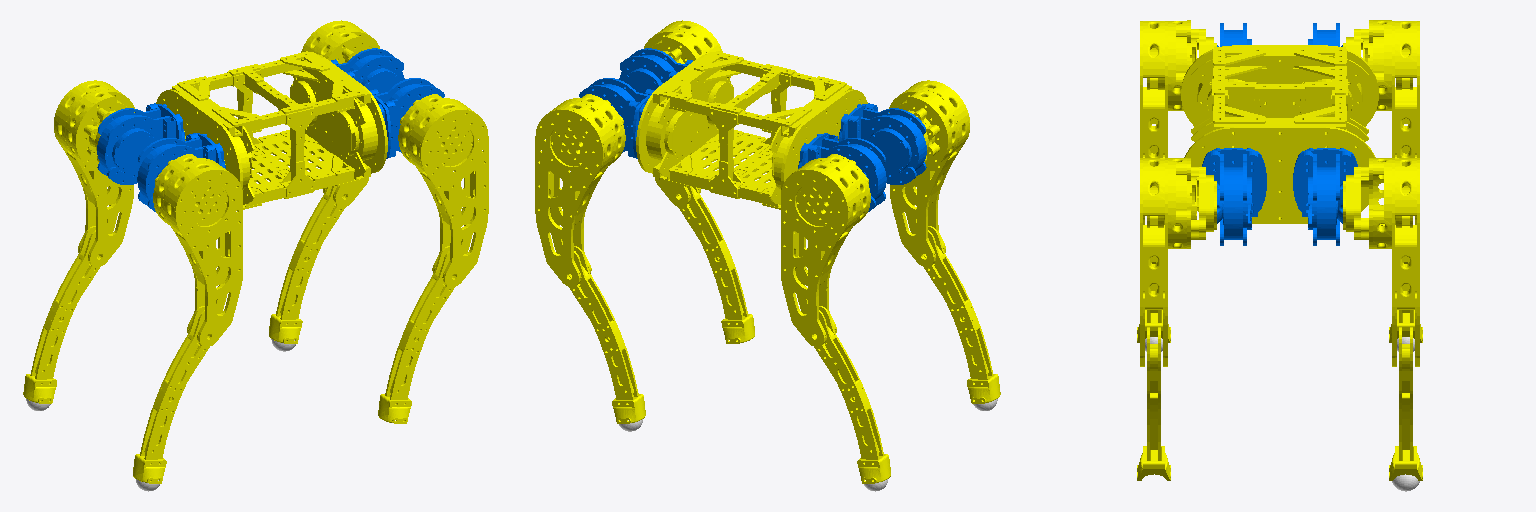
URDF robot description (g308_km):
<?xml version="1.0" encoding="utf-8"?>
<!-- This URDF was automatically created by SolidWorks to URDF Exporter! Originally created by [author] ([email redacted]) 
     Commit Version: 1.6.0-4-g7f85cfe  Build Version: 1.6.7995.38578
     For more information, please see http://wiki.ros.org/sw_urdf_exporter -->
<robot
  name="g308_km">
  <link
    name="base">
    <inertial>
      <origin
        xyz="-0.021 0.00 -0.006"
        rpy="0 0 0" />
      <mass
        value="4.104" />
      <inertia
        ixx="0.022"
        ixy="0.00"
        ixz="0.00"
        iyy="0.052"
        iyz="0.00"
        izz="0.063" />
    </inertial>
    <visual>
      <origin
        xyz="0 0 0"
        rpy="0 0 0" />
      <geometry>
        <mesh
          filename="../meshes/base_link.STL" />
      </geometry>
      <material
        name="">
        <color
          rgba="1 1 0 1" />
      </material>
    </visual>
    <collision>
      <origin
        xyz="0 0 0"
        rpy="0 0 0" />
      <geometry>
        <mesh
          filename="../meshes/base_link.STL" />
      </geometry>
    </collision>
  </link>
  <link
    name="FL_hip">
    <inertial>
      <origin
        xyz="0.046 0.00 -0.001"
        rpy="0 0 0" />
      <mass
        value="1.034" />
      <inertia
        ixx="0.001"
        ixy="0.0"
        ixz="0.0"
        iyy="0.001"
        iyz="0.00"
        izz="0.002" />
    </inertial>
    <visual>
      <origin
        xyz="0 0 0"
        rpy="0 0 0" />
      <geometry>
        <mesh
          filename="../meshes/FL_hip.STL" />
      </geometry>
      <material
        name="">
        <color
          rgba="0 0.501960784313725 1 1" />
      </material>
    </visual>
    <collision>
      <origin
        xyz="0 0 0"
        rpy="0 0 0" />
      <geometry>
        <mesh
          filename="../meshes/FL_hip.STL" />
      </geometry>
    </collision>
  </link>
  <joint
    name="FL_hip_joint"
    type="revolute">
    <origin
      xyz="-0.1699 -0.0615 0.0077356"
      rpy="1.5708 0 3.1416" />
    <parent
      link="base" />
    <child
      link="FL_hip" />
    <axis
      xyz="1 0 0" />
    <limit
      lower="0"
      upper="0"
      effort="20"
      velocity="10" />
  </joint>
  <link
    name="FL_thigh">
    <inertial>
      <origin
        xyz="-0.002683 -0.027136 -0.042559"
        rpy="0 0 0" />
      <mass
        value="1.623153" />
      <inertia
        ixx="0.007266"
        ixy="-0.000730"
        ixz="-0.00177"
        iyy="0.002161"
        iyz="-0.000979"
        izz="0.007364" />
    </inertial>
    <visual>
      <origin
        xyz="0 0 0"
        rpy="0 0 0" />
      <geometry>
        <mesh
          filename="../meshes/FL_thigh.STL" />
      </geometry>
      <material
        name="">
        <color
          rgba="1 1 0 1" />
      </material>
    </visual>
    <collision>
      <origin
        xyz="0 0 0"
        rpy="0 0 0" />
      <geometry>
        <mesh
          filename="../meshes/FL_thigh.STL" />
      </geometry>
    </collision>
  </link>
  <joint
    name="FL_thigh_joint"
    type="revolute">
    <origin
      xyz="0.0677 0 -0.039"
      rpy="0 0 0" />
    <parent
      link="FL_hip" />
    <child
      link="FL_thigh" />
    <axis
      xyz="0 0 -1" />
    <limit
      lower="0"
      upper="0"
      effort="20"
      velocity="10" />
  </joint>
  <link
    name="FL_calf">
    <inertial>
      <origin
        xyz="0.0502864229248673 -0.091368336916456 0.0100012603719881"
        rpy="0 0 0" />
      <mass
        value="0.244" />
      <inertia
        ixx="0.001"
        ixy="0.001"
        ixz="0.0"
        iyy="0.0"
        iyz="0.0"
        izz="0.002" />
    </inertial>
    <visual>
      <origin
        xyz="0 0 0"
        rpy="0 0 0" />
      <geometry>
        <mesh
          filename="../meshes/FL_calf.STL" />
      </geometry>
      <material
        name="">
        <color
          rgba="1 1 0 1" />
      </material>
    </visual>
    <collision>
      <origin
        xyz="0 0 0"
        rpy="0 0 0" />
      <geometry>
        <mesh
          filename="../meshes/FL_calf.STL" />
      </geometry>
    </collision>
  </link>
  <joint
    name="FL_calf_joint"
    type="revolute">
    <origin
      xyz="0 -0.22 -0.0765"
      rpy="0 0 0" />
    <parent
      link="FL_thigh" />
    <child
      link="FL_calf" />
    <axis
      xyz="0 0 -1" />
    <limit
      lower="0"
      upper="0"
      effort="20"
      velocity="10" />
  </joint>
  <link
    name="FL_foot">
    <inertial>
      <origin
        xyz="5.57990809113562E-09 0.000156464784550781 6.38025034006562E-05"
        rpy="0 0 0" />
      <mass
        value="0.0311902243903797" />
      <inertia
        ixx="5.06120841117781E-06"
        ixy="1.89067382214396E-14"
        ixz="8.44229934715806E-13"
        iyy="4.98515638872325E-06"
        iyz="-1.02064134491074E-08"
        izz="5.01872622594312E-06" />
    </inertial>
    <visual>
      <origin
        xyz="0 0 0"
        rpy="0 0 0" />
      <geometry>
        <mesh
          filename="../meshes/FL_foot.STL" />
      </geometry>
      <material
        name="">
        <color
          rgba="1 1 1 1" />
      </material>
    </visual>
    <collision>
      <origin
        xyz="0 0 0"
        rpy="0 0 0" />
      <geometry>
        <mesh
          filename="../meshes/FL_foot.STL" />
      </geometry>
    </collision>
  </link>
  <joint
    name="FL_foot_joint"
    type="fixed">
    <origin
      xyz="0.096205 -0.22407 0.01"
      rpy="2.9432 1.5708 0" />
    <parent
      link="FL_calf" />
    <child
      link="FL_foot" />
    <axis
      xyz="0 0 0" />
    <limit
      effort="20"
      velocity="10" />
  </joint>
  <link
    name="RL_hip">
    <inertial>
      <origin
        xyz="-0.045606 0.00005 -0.000897"
        rpy="0 0 0" />
      <mass
        value="1.034431" />
      <inertia
        ixx="0.000668"
        ixy="-0.000004"
        ixz="-0.000019"
        iyy="0.001443"
        iyz="-9.7756225314779E-09"
        izz="0.001692" />
    </inertial>
    <visual>
      <origin
        xyz="0 0 0"
        rpy="0 0 0" />
      <geometry>
        <mesh
          filename="../meshes/RL_hip.STL" />
      </geometry>
      <material
        name="">
        <color
          rgba="0 0.501960784313725 1 1" />
      </material>
    </visual>
    <collision>
      <origin
        xyz="0 0 0"
        rpy="0 0 0" />
      <geometry>
        <mesh
          filename="../meshes/RL_hip.STL" />
      </geometry>
    </collision>
  </link>
  <joint
    name="RL_hip_joint"
    type="revolute">
    <origin
      xyz="0.12709 -0.0615 0.0077356"
      rpy="1.5708 0 3.1416" />
    <parent
      link="base" />
    <child
      link="RL_hip" />
    <axis
      xyz="1 0 0" />
    <limit
      lower="0"
      upper="0"
      effort="20"
      velocity="10" />
  </joint>
  <link
    name="RL_thigh">
    <inertial>
      <origin
        xyz="-0.014325 -0.015494 -0.0263559"
        rpy="0 0 0" />
      <mass
        value="1.623153" />
      <inertia
        ixx="0.007266"
        ixy="-0.000730"
        ixz="-0.000177"
        iyy="0.002161"
        iyz="-0.000979"
        izz="0.007364" />
    </inertial>
    <visual>
      <origin
        xyz="0 0 0"
        rpy="0 0 0" />
      <geometry>
        <mesh
          filename="../meshes/RL_thigh.STL" />
      </geometry>
      <material
        name="">
        <color
          rgba="1 1 0 1" />
      </material>
    </visual>
    <collision>
      <origin
        xyz="0 0 0"
        rpy="0 0 0" />
      <geometry>
        <mesh
          filename="../meshes/RL_thigh.STL" />
      </geometry>
    </collision>
  </link>
  <joint
    name="RL_thigh_joint"
    type="revolute">
    <origin
      xyz="-0.056059 -0.011641 -0.059"
      rpy="0 0 0" />
    <parent
      link="RL_hip" />
    <child
      link="RL_thigh" />
    <axis
      xyz="0 0 -1" />
    <limit
      lower="0"
      upper="0"
      effort="20"
      velocity="10" />
  </joint>
  <link
    name="RL_calf">
    <inertial>
      <origin
        xyz="0.050286422924934 -0.0913683369164015 0.0100012603719424"
        rpy="0 0 0" />
      <mass
        value="0.243573" />
      <inertia
        ixx="0.001367"
        ixy="-0.000642"
        ixz="0.0"
        iyy="0.000356"
        iyz="0.0"
        izz="0.001698" />
    </inertial>
    <visual>
      <origin
        xyz="0 0 0"
        rpy="0 0 0" />
      <geometry>
        <mesh
          filename="../meshes/RL_calf.STL" />
      </geometry>
      <material
        name="">
        <color
          rgba="1 1 0 1" />
      </material>
    </visual>
    <collision>
      <origin
        xyz="0 0 0"
        rpy="0 0 0" />
      <geometry>
        <mesh
          filename="../meshes/RL_calf.STL" />
      </geometry>
    </collision>
  </link>
  <joint
    name="RL_calf_joint"
    type="revolute">
    <origin
      xyz="-0.011641 -0.20836 -0.0565"
      rpy="0 0 0" />
    <parent
      link="RL_thigh" />
    <child
      link="RL_calf" />
    <axis
      xyz="0 0 -1" />
    <limit
      lower="0"
      upper="0"
      effort="20"
      velocity="10" />
  </joint>
  <link
    name="RL_foot">
    <inertial>
      <origin
        xyz="5.57990809113562E-09 0.000156464784550669 6.38025034006562E-05"
        rpy="0 0 0" />
      <mass
        value="0.0311902243903798" />
      <inertia
        ixx="5.06120841117782E-06"
        ixy="1.89067431518709E-14"
        ixz="8.44229935295326E-13"
        iyy="4.98515638872326E-06"
        iyz="-1.0206413449107E-08"
        izz="5.01872622594313E-06" />
    </inertial>
    <visual>
      <origin
        xyz="0 0 0"
        rpy="0 0 0" />
      <geometry>
        <mesh
          filename="../meshes/RL_foot.STL" />
      </geometry>
      <material
        name="">
        <color
          rgba="1 1 1 1" />
      </material>
    </visual>
    <collision>
      <origin
        xyz="0 0 0"
        rpy="0 0 0" />
      <geometry>
        <mesh
          filename="../meshes/RL_foot.STL" />
      </geometry>
    </collision>
  </link>
  <joint
    name="RL_foot_joint"
    type="fixed">
    <origin
      xyz="0.096205 -0.22407 0.01"
      rpy="2.9432 1.5708 0" />
    <parent
      link="RL_calf" />
    <child
      link="RL_foot" />
    <axis
      xyz="0 0 0" />
  </joint>
  <link
    name="FR_hip">
    <inertial>
      <origin
        xyz="0.0045611 0.00005 0.000897"
        rpy="0 0 0" />
      <mass
        value="1.034431" />
      <inertia
        ixx="0.000668"
        ixy="0.000004"
        ixz="-0.00002"
        iyy="0.001444"
        iyz="0.0"
        izz="0.001692" />
    </inertial>
    <visual>
      <origin
        xyz="0 0 0"
        rpy="0 0 0" />
      <geometry>
        <mesh
          filename="../meshes/FR_hip.STL" />
      </geometry>
      <material
        name="">
        <color
          rgba="0 0.501960784313725 1 1" />
      </material>
    </visual>
    <collision>
      <origin
        xyz="0 0 0"
        rpy="0 0 0" />
      <geometry>
        <mesh
          filename="../meshes/FR_hip.STL" />
      </geometry>
    </collision>
  </link>
  <joint
    name="FR_hip_joint"
    type="revolute">
    <origin
      xyz="-0.1699 0.0615 0.0077356"
      rpy="1.5708 0 3.1416" />
    <parent
      link="base" />
    <child
      link="FR_hip" />
    <axis
      xyz="1 0 0" />
    <limit
      lower="0"
      upper="0"
      effort="20"
      velocity="10" />
  </joint>
  <link
    name="FR_thigh">
    <inertial>
      <origin
        xyz="-0.014296 -0.015465 0.022559"
        rpy="0 0 0" />
      <mass
        value="1.623153" />
      <inertia
        ixx="0.007268"
        ixy="-0.000732"
        ixz="0.000177"
        iyy="0.002162"
        iyz="0.00098"
        izz="0.007366" />
    </inertial>
    <visual>
      <origin
        xyz="0 0 0"
        rpy="0 0 0" />
      <geometry>
        <mesh
          filename="../meshes/FR_thigh.STL" />
      </geometry>
      <material
        name="">
        <color
          rgba="1 1 0 1" />
      </material>
    </visual>
    <collision>
      <origin
        xyz="0 0 0"
        rpy="0 0 0" />
      <geometry>
        <mesh
          filename="../meshes/FR_thigh.STL" />
      </geometry>
    </collision>
  </link>
  <joint
    name="FR_thigh_joint"
    type="revolute">
    <origin
      xyz="0.079341 -0.011641 0.059"
      rpy="0 0 0" />
    <parent
      link="FR_hip" />
    <child
      link="FR_thigh" />
    <axis
      xyz="0 0 -1" />
    <limit
      lower="0"
      upper="0"
      effort="20"
      velocity="10" />
  </joint>
  <link
    name="FR_calf">
    <inertial>
      <origin
        xyz="0.0502864229245757 -0.0913683369170326 0.0100012603711955"
        rpy="0 0 0" />
      <mass
        value="0.24357427073011" />
      <inertia
        ixx="0.001367"
        ixy="0.000642"
        ixz="0.00"
        iyy="0.000356"
        iyz="0.00"
        izz="0.001698" />
    </inertial>
    <visual>
      <origin
        xyz="0 0 0"
        rpy="0 0 0" />
      <geometry>
        <mesh
          filename="../meshes/FR_calf.STL" />
      </geometry>
      <material
        name="">
        <color
          rgba="1 1 0 1" />
      </material>
    </visual>
    <collision>
      <origin
        xyz="0 0 0"
        rpy="0 0 0" />
      <geometry>
        <mesh
          filename="../meshes/FR_calf.STL" />
      </geometry>
    </collision>
  </link>
  <joint
    name="FR_calf_joint"
    type="revolute">
    <origin
      xyz="-0.011641 -0.20836 0.0365"
      rpy="0 0 0" />
    <parent
      link="FR_thigh" />
    <child
      link="FR_calf" />
    <axis
      xyz="0 0 -1" />
    <limit
      lower="0"
      upper="0"
      effort="20"
      velocity="10" />
  </joint>
  <link
    name="FR_foot">
    <inertial>
      <origin
        xyz="5.57990809113562E-09 0.000156464784550669 6.38025034006839E-05"
        rpy="0 0 0" />
      <mass
        value="0.0311902243903797" />
      <inertia
        ixx="5.06120841117781E-06"
        ixy="1.8906738882967E-14"
        ixz="8.44229938233497E-13"
        iyy="4.98515638872325E-06"
        iyz="-1.0206413449107E-08"
        izz="5.01872622594312E-06" />
    </inertial>
    <visual>
      <origin
        xyz="0 0 0"
        rpy="0 0 0" />
      <geometry>
        <mesh
          filename="../meshes/FR_foot.STL" />
      </geometry>
      <material
        name="">
        <color
          rgba="1 1 1 1" />
      </material>
    </visual>
    <collision>
      <origin
        xyz="0 0 0"
        rpy="0 0 0" />
      <geometry>
        <mesh
          filename="../meshes/FR_foot.STL" />
      </geometry>
    </collision>
  </link>
  <joint
    name="FR_foot_joint"
    type="fixed">
    <origin
      xyz="0.096204687182093 -0.224068557253551 0.00999999999925294"
      rpy="2.94324795442943 1.5707963267949 0" />
    <parent
      link="FR_calf" />
    <child
      link="FR_foot" />
    <axis
      xyz="0 0 0" />
  </joint>
  <link
    name="RR_hip">
    <inertial>
      <origin
        xyz="-0.045611 0.000114 0.000897"
        rpy="0 0 0" />
      <mass
        value="1.034431" />
      <inertia
        ixx="0.000668"
        ixy="-0.000003"
        ixz="0.000019"
        iyy="0.001443"
        iyz="0.00"
        izz="0.001692" />
    </inertial>
    <visual>
      <origin
        xyz="0 0 0"
        rpy="0 0 0" />
      <geometry>
        <mesh
          filename="../meshes/RR_hip.STL" />
      </geometry>
      <material
        name="">
        <color
          rgba="0 0.501960784313725 1 1" />
      </material>
    </visual>
    <collision>
      <origin
        xyz="0 0 0"
        rpy="0 0 0" />
      <geometry>
        <mesh
          filename="../meshes/RR_hip.STL" />
      </geometry>
    </collision>
  </link>
  <joint
    name="RR_hip_joint"
    type="revolute">
    <origin
      xyz="0.12709 0.0615 0.0077356"
      rpy="1.5708 0 3.1416" />
    <parent
      link="base" />
    <child
      link="RR_hip" />
    <axis
      xyz="1 0 0" />
    <limit
      lower="0"
      upper="0"
      effort="20"
      velocity="10" />
  </joint>
  <link
    name="RR_thigh">
    <inertial>
      <origin
        xyz="-0.14296 -0.015465 0.022559"
        rpy="0 0 0" />
      <mass
        value="1.623153" />
      <inertia
        ixx="0.007268"
        ixy="-0.000732"
        ixz="0.000177"
        iyy="0.002162"
        iyz="0.000980"
        izz="0.007366" />
    </inertial>
    <visual>
      <origin
        xyz="0 0 0"
        rpy="0 0 0" />
      <geometry>
        <mesh
          filename="../meshes/RR_thigh.STL" />
      </geometry>
      <material
        name="">
        <color
          rgba="1 1 0 1" />
      </material>
    </visual>
    <collision>
      <origin
        xyz="0 0 0"
        rpy="0 0 0" />
      <geometry>
        <mesh
          filename="../meshes/RR_thigh.STL" />
      </geometry>
    </collision>
  </link>
  <joint
    name="RR_thigh_joint"
    type="revolute">
    <origin
      xyz="-0.056059 -0.011641 0.059"
      rpy="0 0 0" />
    <parent
      link="RR_hip" />
    <child
      link="RR_thigh" />
    <axis
      xyz="0 0 -1" />
    <limit
      lower="0"
      upper="0"
      effort="20"
      velocity="10" />
  </joint>
  <link
    name="RR_calf">
    <inertial>
      <origin
        xyz="0.0502864229248036 -0.0913683369165559 0.0100012603716604"
        rpy="0 0 0" />
      <mass
        value="0.24357427073011" />
      <inertia
        ixx="0.000648204117665621"
        ixy="-0.000308645680473211"
        ixz="-2.22084372635169E-09"
        iyy="0.000186059943789856"
        iyz="5.13538413169624E-09"
        izz="0.000823306990230793" />
    </inertial>
    <visual>
      <origin
        xyz="0 0 0"
        rpy="0 0 0" />
      <geometry>
        <mesh
          filename="../meshes/RR_calf.STL" />
      </geometry>
      <material
        name="">
        <color
          rgba="1 1 0 1" />
      </material>
    </visual>
    <collision>
      <origin
        xyz="0 0 0"
        rpy="0 0 0" />
      <geometry>
        <mesh
          filename="../meshes/RR_calf.STL" />
      </geometry>
    </collision>
  </link>
  <joint
    name="RR_calf_joint"
    type="revolute">
    <origin
      xyz="-0.011641 -0.20836 0.0365"
      rpy="0 0 0" />
    <parent
      link="RR_thigh" />
    <child
      link="RR_calf" />
    <axis
      xyz="0 0 -1" />
    <limit
      lower="0"
      upper="0"
      effort="20"
      velocity="10" />
  </joint>
  <link
    name="RR_foot">
    <inertial>
      <origin
        xyz="5.57990806338005E-09 0.000156464784550725 6.38025034006839E-05"
        rpy="0 0 0" />
      <mass
        value="0.0311902243903798" />
      <inertia
        ixx="5.06120841117781E-06"
        ixy="1.89067421324778E-14"
        ixz="8.44229932322898E-13"
        iyy="4.98515638872325E-06"
        iyz="-1.020641344911E-08"
        izz="5.01872622594312E-06" />
    </inertial>
    <visual>
      <origin
        xyz="0 0 0"
        rpy="0 0 0" />
      <geometry>
        <mesh
          filename="../meshes/RR_foot.STL" />
      </geometry>
      <material
        name="">
        <color
          rgba="1 1 1 1" />
      </material>
    </visual>
    <collision>
      <origin
        xyz="0 0 0"
        rpy="0 0 0" />
      <geometry>
        <mesh
          filename="../meshes/RR_foot.STL" />
      </geometry>
    </collision>
  </link>
  <joint
    name="RR_foot_joint"
    type="fixed">
    <origin
      xyz="0.0962046871823301 -0.224068557253087 0.00999999999971268"
      rpy="2.94324795442943 1.5707963267949 0" />
    <parent
      link="RR_calf" />
    <child
      link="RR_foot" />
    <axis
      xyz="0 0 0" />
  </joint>
</robot>

--- Render facts (derived) ---
The picture shows the robot from 3 angles, left to right: view 1: azimuth 30°, elevation 25°; view 2: azimuth 150°, elevation 25°; view 3: azimuth 270°, elevation 25°; orthographic projection.
Robot: g308_km — 17 links, 16 joints (12 revolute, 4 fixed); root link base; default pose: every joint at zero.
Links seen in each view (by area): view 1: base, RL_thigh, FL_thigh, FR_thigh, FR_hip, FR_calf, FL_calf, RL_calf, RR_calf, RR_thigh, FL_hip, RL_hip (+1 smaller); view 2: base, RR_thigh, FR_thigh, FL_thigh, FL_hip, FL_calf, FR_calf, RR_calf, RL_calf, RL_thigh, FR_hip, RR_hip (+1 smaller); view 3: base, RL_thigh, RR_thigh, FR_thigh, FL_thigh, RL_hip, RR_hip, RL_calf, RR_calf, FL_calf, FR_calf.
Boxes of the visible links, <box> form: base: <box>156,51,387,209</box>; RL_thigh: <box>398,94,488,286</box>; FL_thigh: <box>153,154,242,346</box>; FR_thigh: <box>54,80,134,266</box>; FR_hip: <box>97,103,185,184</box>; FR_calf: <box>23,226,100,403</box>; FL_calf: <box>133,306,209,483</box>; RL_calf: <box>378,246,454,423</box>; RR_calf: <box>269,186,345,343</box>; RR_thigh: <box>301,20,379,206</box>; FL_hip: <box>137,133,225,211</box>; RL_hip: <box>369,78,444,158</box>; base: <box>636,51,867,211</box>; RR_thigh: <box>535,94,625,286</box>; FR_thigh: <box>781,154,870,346</box>; FL_thigh: <box>889,80,969,266</box>; FL_hip: <box>838,103,926,184</box>; FL_calf: <box>923,226,1000,403</box>; FR_calf: <box>814,306,890,483</box>; RR_calf: <box>569,246,645,423</box>; RL_calf: <box>678,186,754,343</box>; RL_thigh: <box>644,20,722,206</box>; FR_hip: <box>798,133,886,211</box>; RR_hip: <box>579,78,654,158</box>; base: <box>1181,45,1378,223</box>; RL_thigh: <box>1140,158,1216,366</box>; RR_thigh: <box>1343,158,1419,366</box>; FR_thigh: <box>1343,20,1419,224</box>; FL_thigh: <box>1140,20,1216,224</box>; RL_hip: <box>1202,148,1266,245</box>; RR_hip: <box>1293,148,1357,245</box>; RL_calf: <box>1137,327,1170,480</box>; RR_calf: <box>1389,327,1422,480</box>; FL_calf: <box>1137,262,1170,342</box>; FR_calf: <box>1389,262,1422,342</box>.
Bounding box of the posed robot: 0.6125 × 0.379 × 0.537 m (x, y, z).
16 mesh visuals loaded from 17 distinct referenced files (16 binary STL); not drawn: 1 (reference not matched to a file when rendering).
